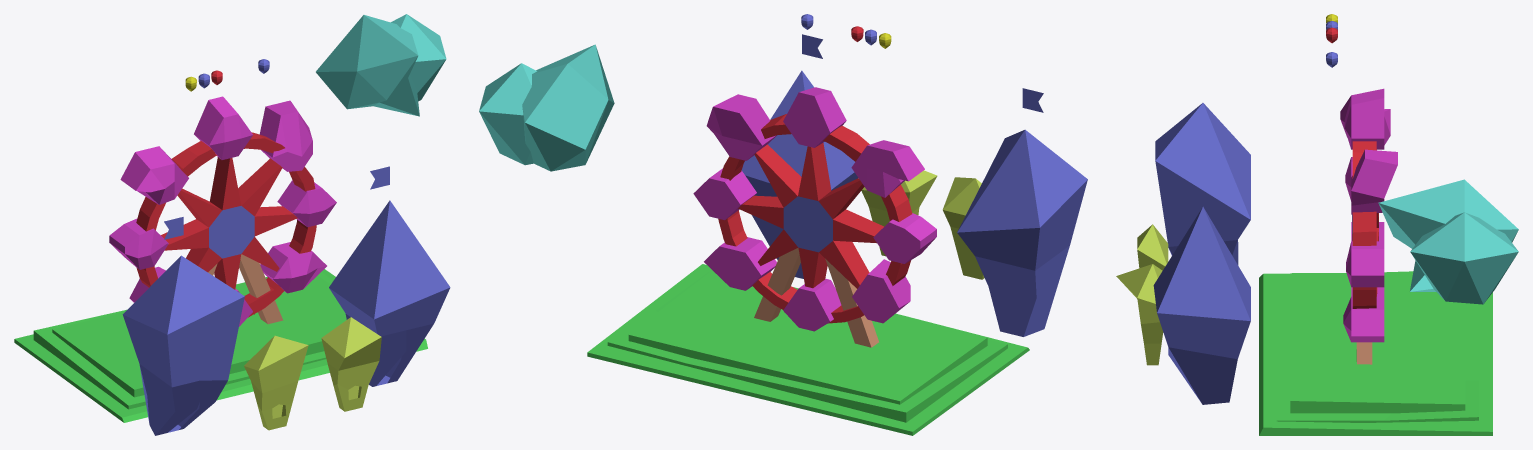
File: Credits 3D Models.fbx
3 renders of one model, left to right at view 1: azimuth 30°, elevation 25°; view 2: azimuth 150°, elevation 25°; view 3: azimuth 270°, elevation 25°, orthographic. The views are drawn at different scales.
Visible parts, largest first — view 1: Blue Circus Tent, Green Wheel Platform, Purple Carriage Wheel, Red and Blue Wheel, Light Blue Cloud, Yellow Ticket Booth, Peach Support Beams Wheel, Yellow Blue Red Balloons; view 2: Green Wheel Platform, Blue Circus Tent, Purple Carriage Wheel, Red and Blue Wheel, Light Blue Cloud, Yellow Ticket Booth, Peach Support Beams Wheel, Yellow Blue Red Balloons; view 3: Green Wheel Platform, Blue Circus Tent, Light Blue Cloud, Purple Carriage Wheel, Yellow Ticket Booth, Red and Blue Wheel, Yellow Blue Red Balloons, Peach Support Beams Wheel.
Boxes of the visible parts, x1,y1,x2,y2 form: Blue Circus Tent: (122,166,450,435); Green Wheel Platform: (14,269,427,422); Purple Carriage Wheel: (109,96,336,326); Red and Blue Wheel: (136,132,316,317); Light Blue Cloud: (316,14,446,116); Yellow Ticket Booth: (244,317,381,430); Peach Support Beams Wheel: (208,254,283,324); Yellow Blue Red Balloons: (185,59,269,91); Green Wheel Platform: (587,264,1029,435); Blue Circus Tent: (741,34,1087,336); Purple Carriage Wheel: (693,87,936,331); Red and Blue Wheel: (718,114,912,323); Light Blue Cloud: (479,44,614,171); Yellow Ticket Booth: (861,170,984,279); Peach Support Beams Wheel: (754,248,878,347); Yellow Blue Red Balloons: (801,14,891,48); Green Wheel Platform: (1259,271,1492,435); Blue Circus Tent: (1153,103,1250,404); Light Blue Cloud: (1378,179,1518,304); Purple Carriage Wheel: (1340,88,1397,342); Yellow Ticket Booth: (1116,224,1168,365); Red and Blue Wheel: (1352,141,1378,308); Yellow Blue Red Balloons: (1326,14,1337,67); Peach Support Beams Wheel: (1356,342,1372,364).
Bounding box in the file's own units: 2.72 × 1.85 × 2.13.
